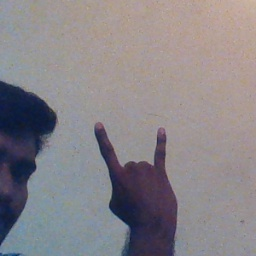V: (89, 113, 186, 232)
